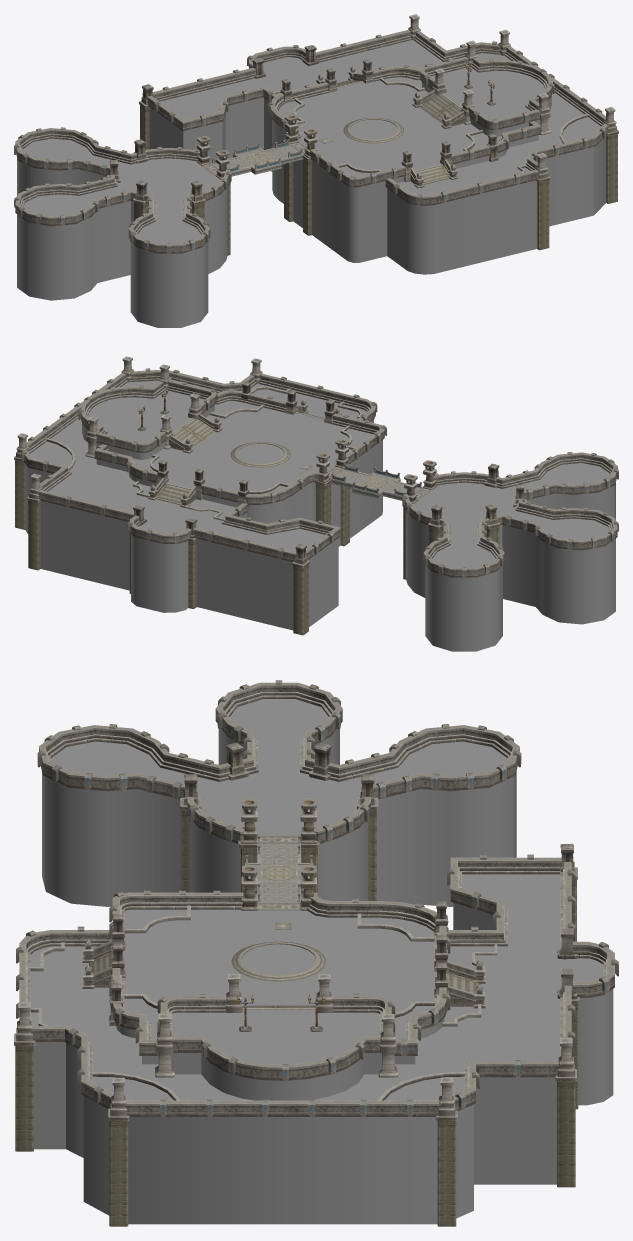
File: dibiao.FBX
3 views of the same model, one above another, from view 1: azimuth 30°, elevation 25°; view 2: azimuth 150°, elevation 25°; view 3: azimuth 270°, elevation 25° (orthographic). The views are drawn at different scales.
Visible parts, largest first — view 1: Box01, Object06, Object76, Object19, Object50, Object07, Object79; view 2: Box01, Object06, Object76, Object19, Object50, Object07, Object79; view 3: Box01, Object06, Object76, Object19, Object07, Object79.
Part boxes in pixels (box(x1,y1,x2,y2)): Box01: box(17, 40, 606, 327); Object06: box(14, 14, 618, 253); Object76: box(134, 105, 617, 255); Object19: box(336, 80, 461, 184); Object50: box(211, 139, 303, 176); Object07: box(213, 145, 298, 168); Object79: box(321, 73, 465, 184); Box01: box(25, 380, 615, 651); Object06: box(14, 356, 618, 577); Object76: box(15, 460, 499, 635); Object19: box(156, 413, 324, 504); Object50: box(330, 463, 422, 500); Object07: box(335, 469, 420, 492); Object79: box(155, 406, 303, 503); Box01: box(30, 699, 613, 1224); Object06: box(14, 680, 618, 1121); Object76: box(15, 810, 578, 1226); Object19: box(89, 941, 480, 1007); Object07: box(248, 843, 309, 902); Object79: box(91, 940, 476, 1006).
Size of the model in its own units: 8244 by 1569 by 5094.
